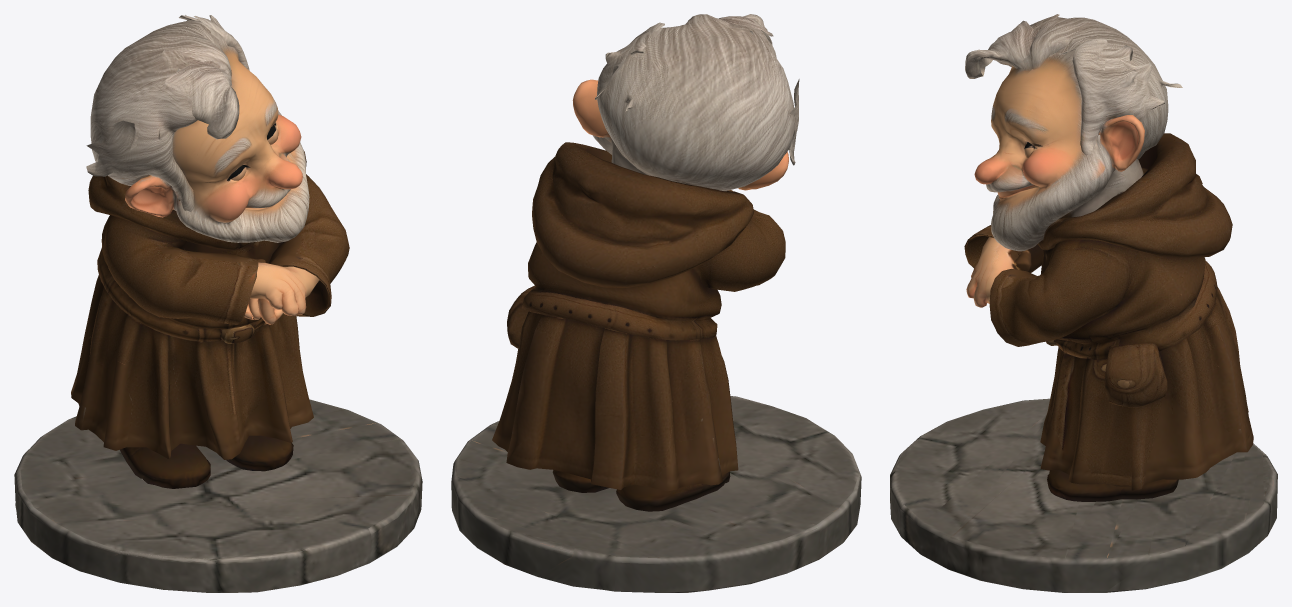
Rendered from merchant_v1.glb.
The picture shows the model from 3 angles, left to right: view 1: azimuth 30°, elevation 25°; view 2: azimuth 150°, elevation 25°; view 3: azimuth 270°, elevation 25°; orthographic projection. The views are drawn at different scales.
Size of the model in its own units: 0.7617 by 1 by 0.7539.
1 material, 1 textured.
